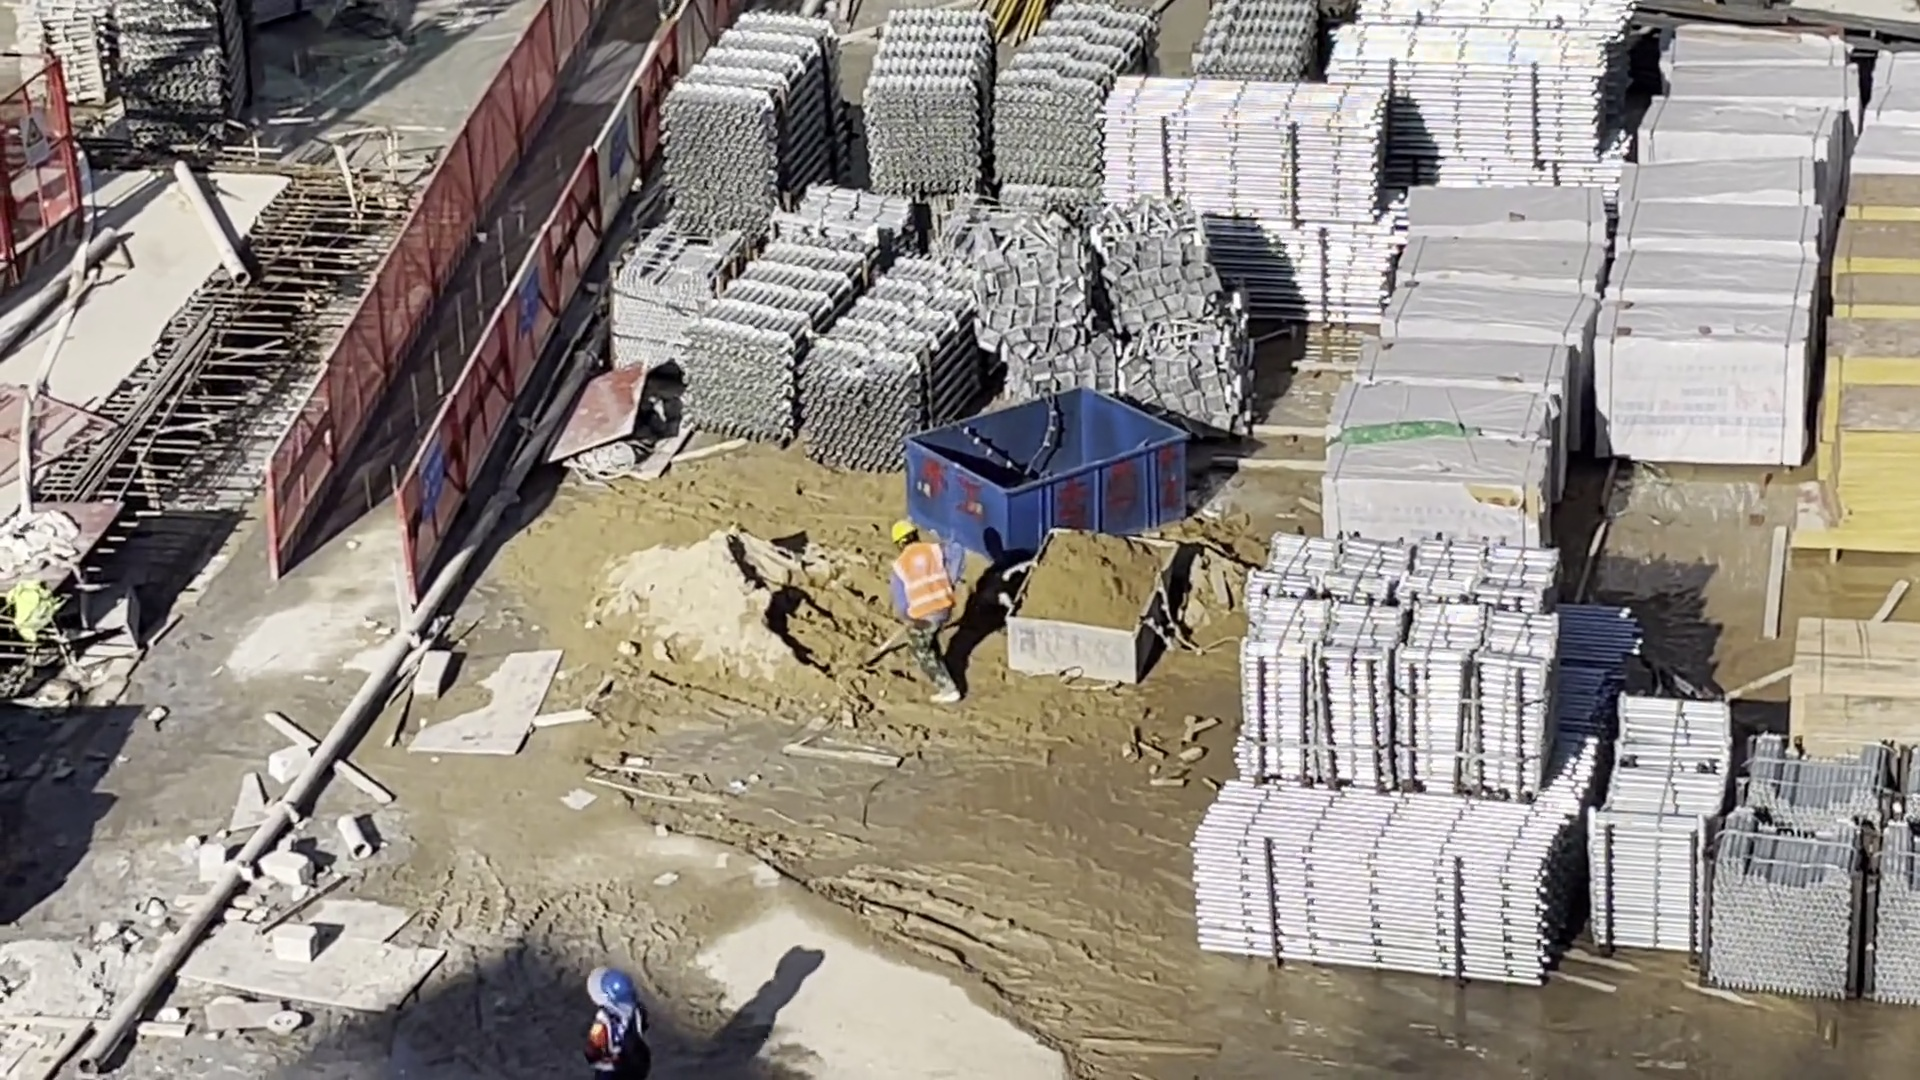board: (1827, 176, 1920, 545), (1790, 615, 1920, 740)
fence: (277, 6, 697, 549)
helmet: (601, 969, 633, 1007), (890, 519, 917, 541)
hopper: (908, 388, 1183, 560), (1006, 526, 1179, 674)
person: (889, 515, 974, 704), (586, 970, 642, 1080)
scaffold: (1246, 534, 1558, 800), (1198, 783, 1556, 991), (1106, 76, 1389, 322), (690, 241, 981, 474), (1702, 742, 1920, 1000), (869, 7, 1147, 201), (1328, 24, 1619, 170), (1588, 693, 1727, 946), (669, 19, 839, 223), (117, 1, 242, 146), (1193, 1, 1324, 83), (13, 8, 111, 116)
slogan: (419, 442, 443, 519), (516, 264, 539, 334)
vest: (898, 543, 952, 623), (597, 1014, 633, 1070)
